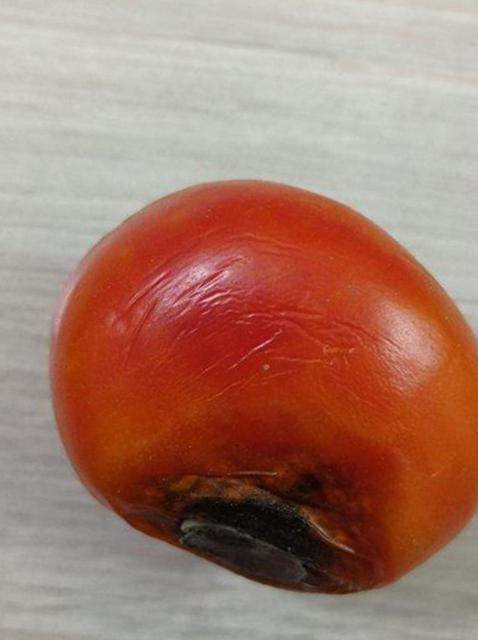defect: (50, 174, 478, 607)
